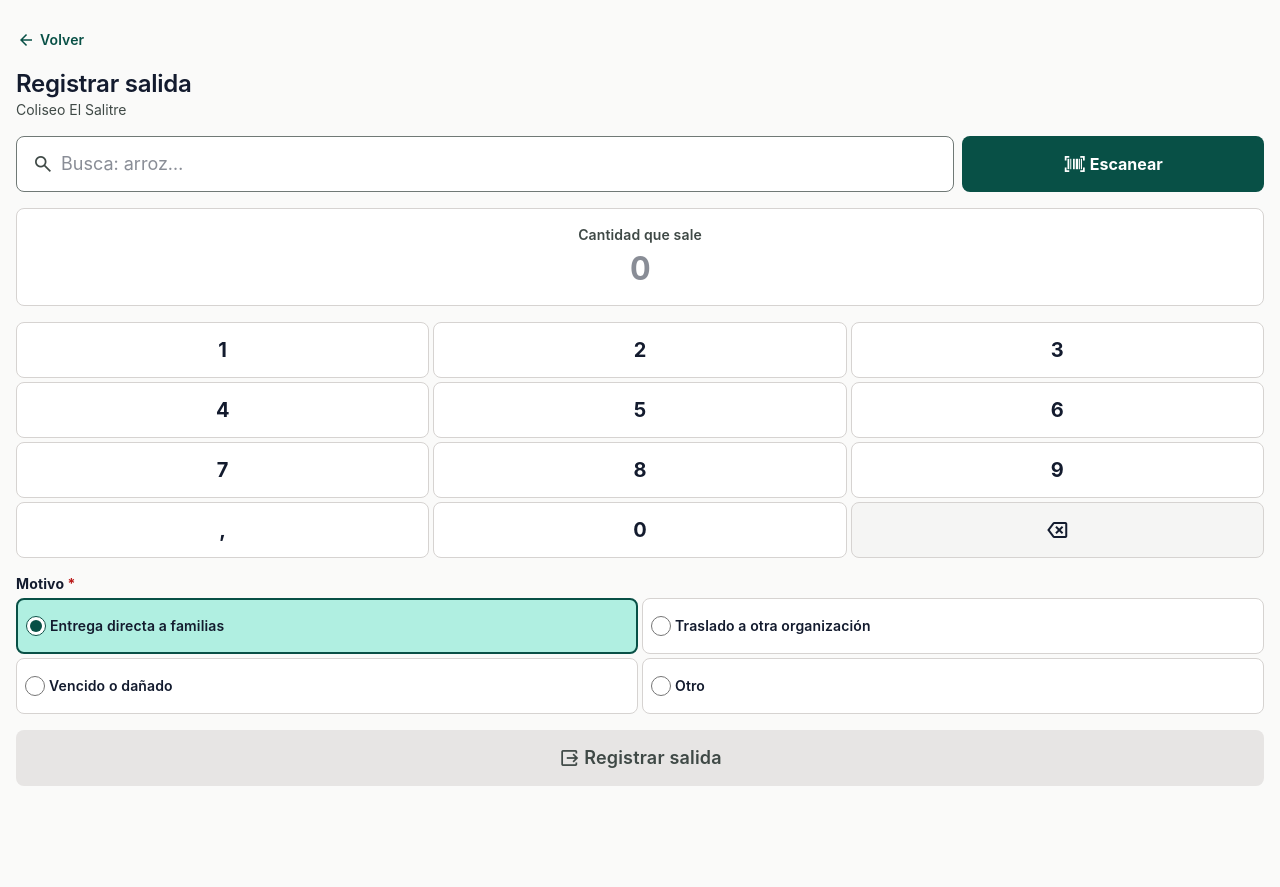
it: C5 Salida › el punto escrito con el teclado del equipo cuenta como coma
This screenshot has width=1280, height=887.
Type "arroz" into the search field named "Categoría" at (485, 164), box [16,136,954,192]
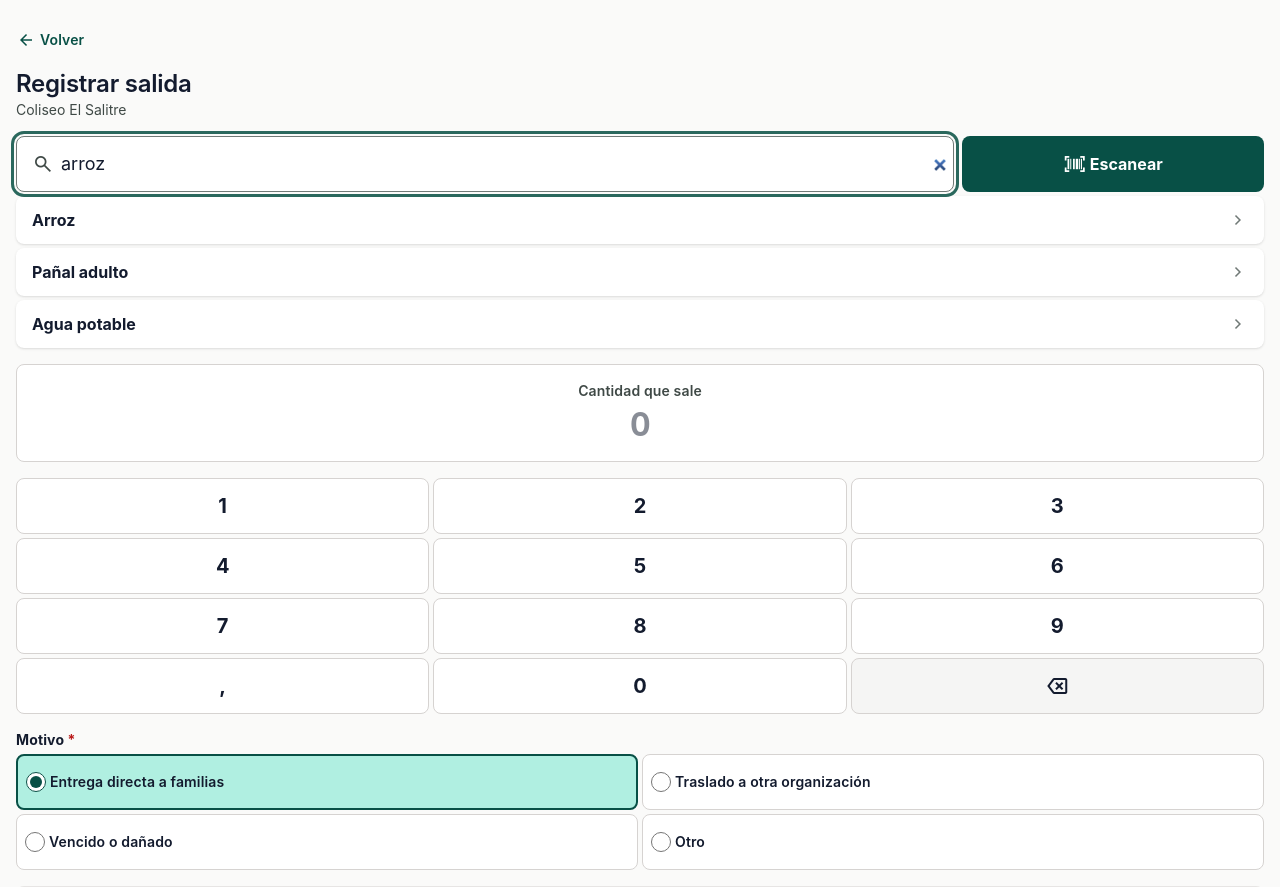
Click the button "Arroz" at (54, 220), box [16,196,1264,244]
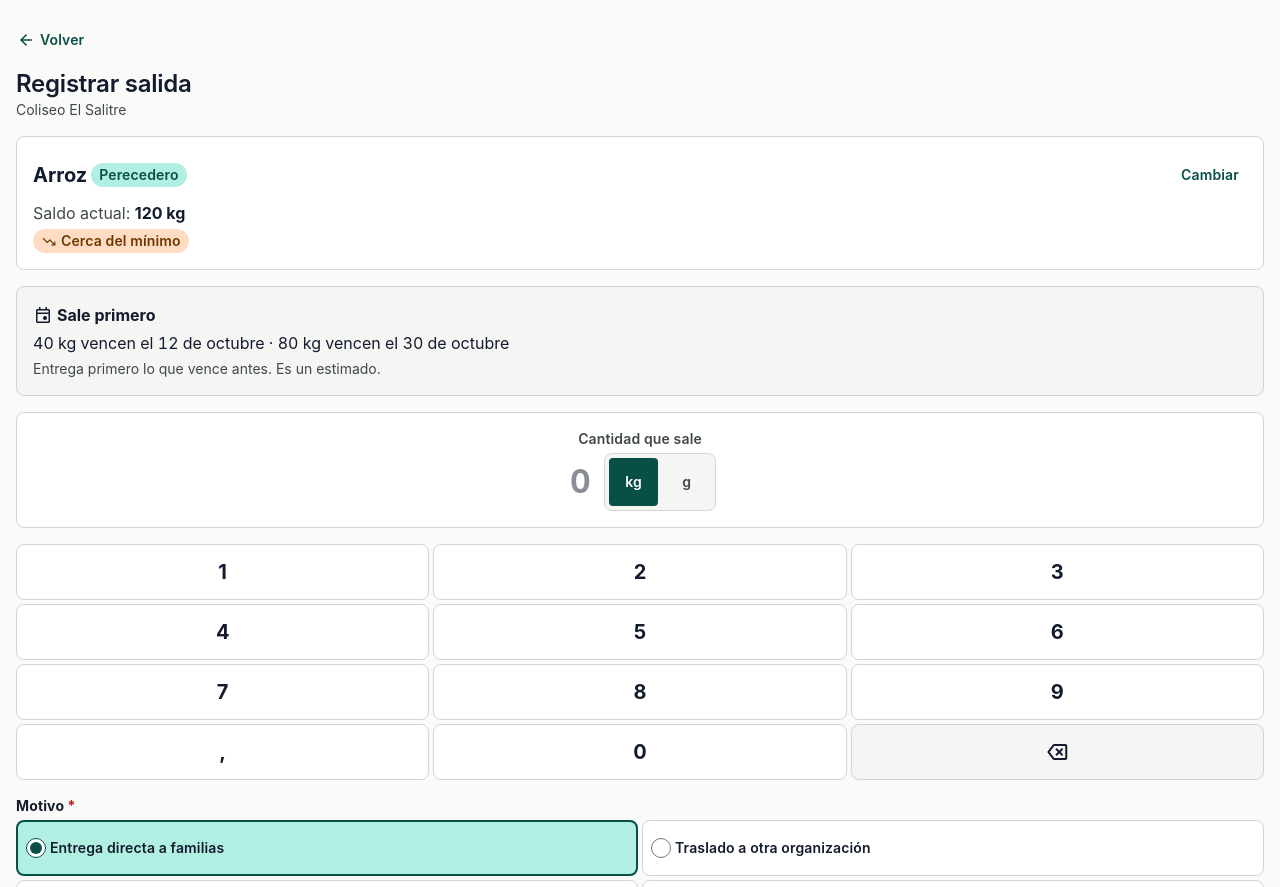
Type "2.5" into the field named "Cantidad" at (580, 482), box [564,462,596,502]
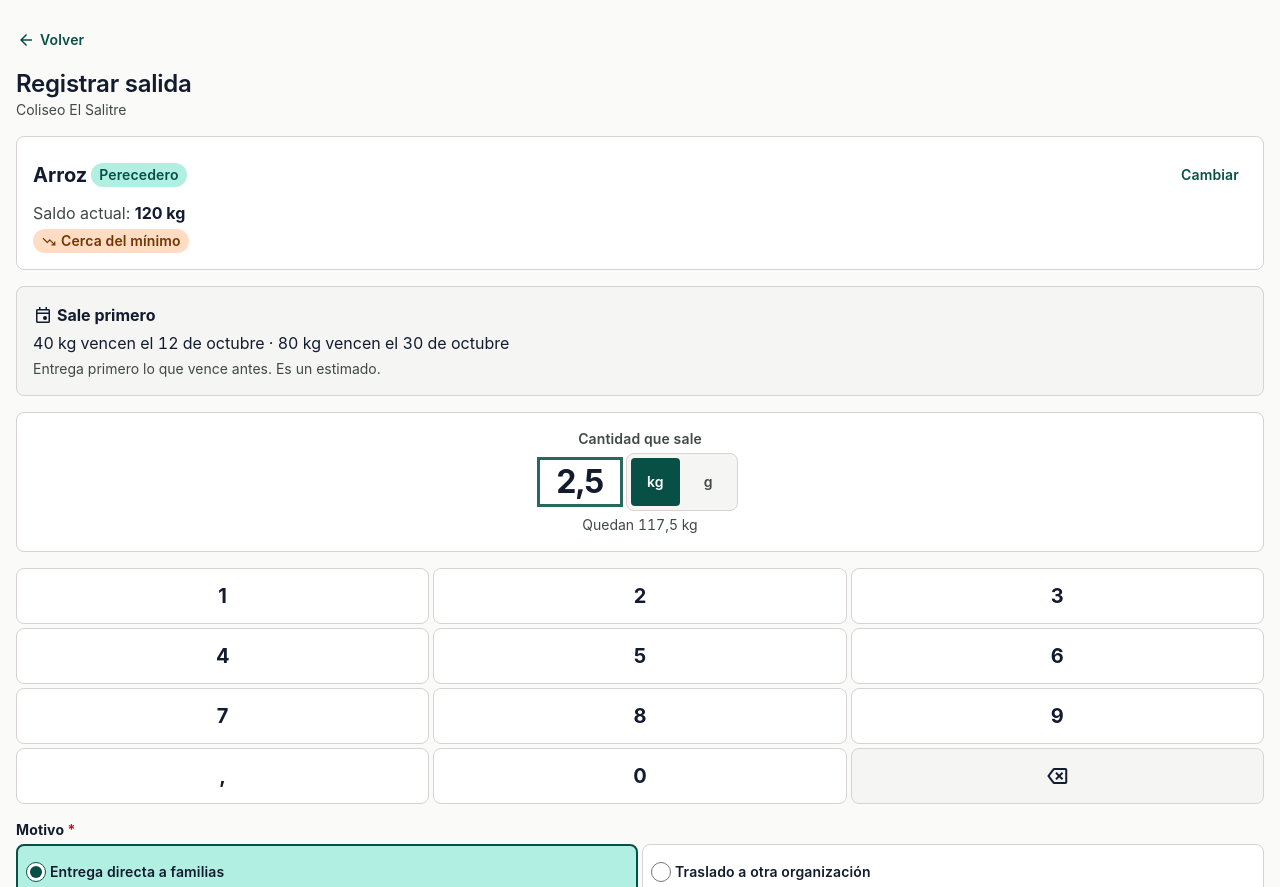
Expected: the text "Quedan 117,5 kg" is shown, [582,515,698,535]
